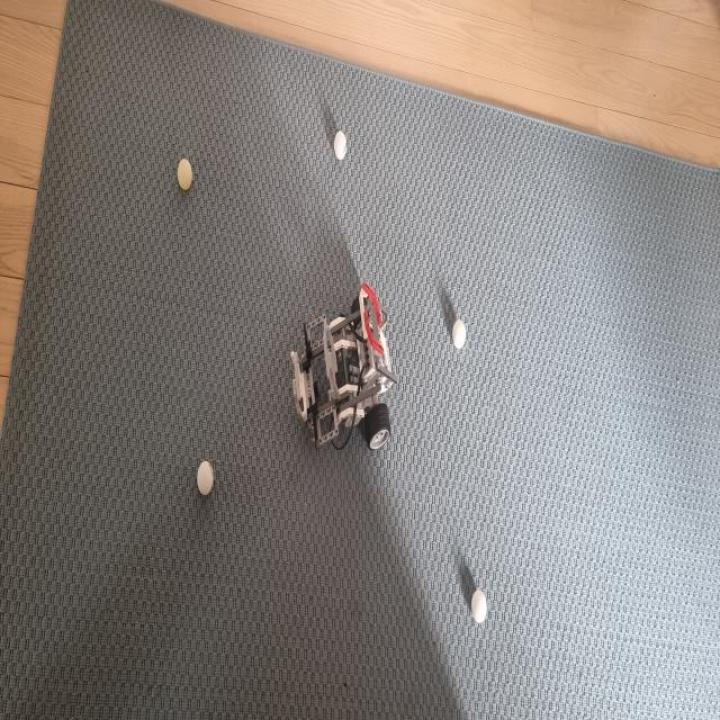robot: (290, 281, 398, 452)
white: (197, 459, 214, 496), (177, 158, 192, 190), (472, 590, 486, 624), (334, 130, 347, 162), (453, 319, 466, 350)
